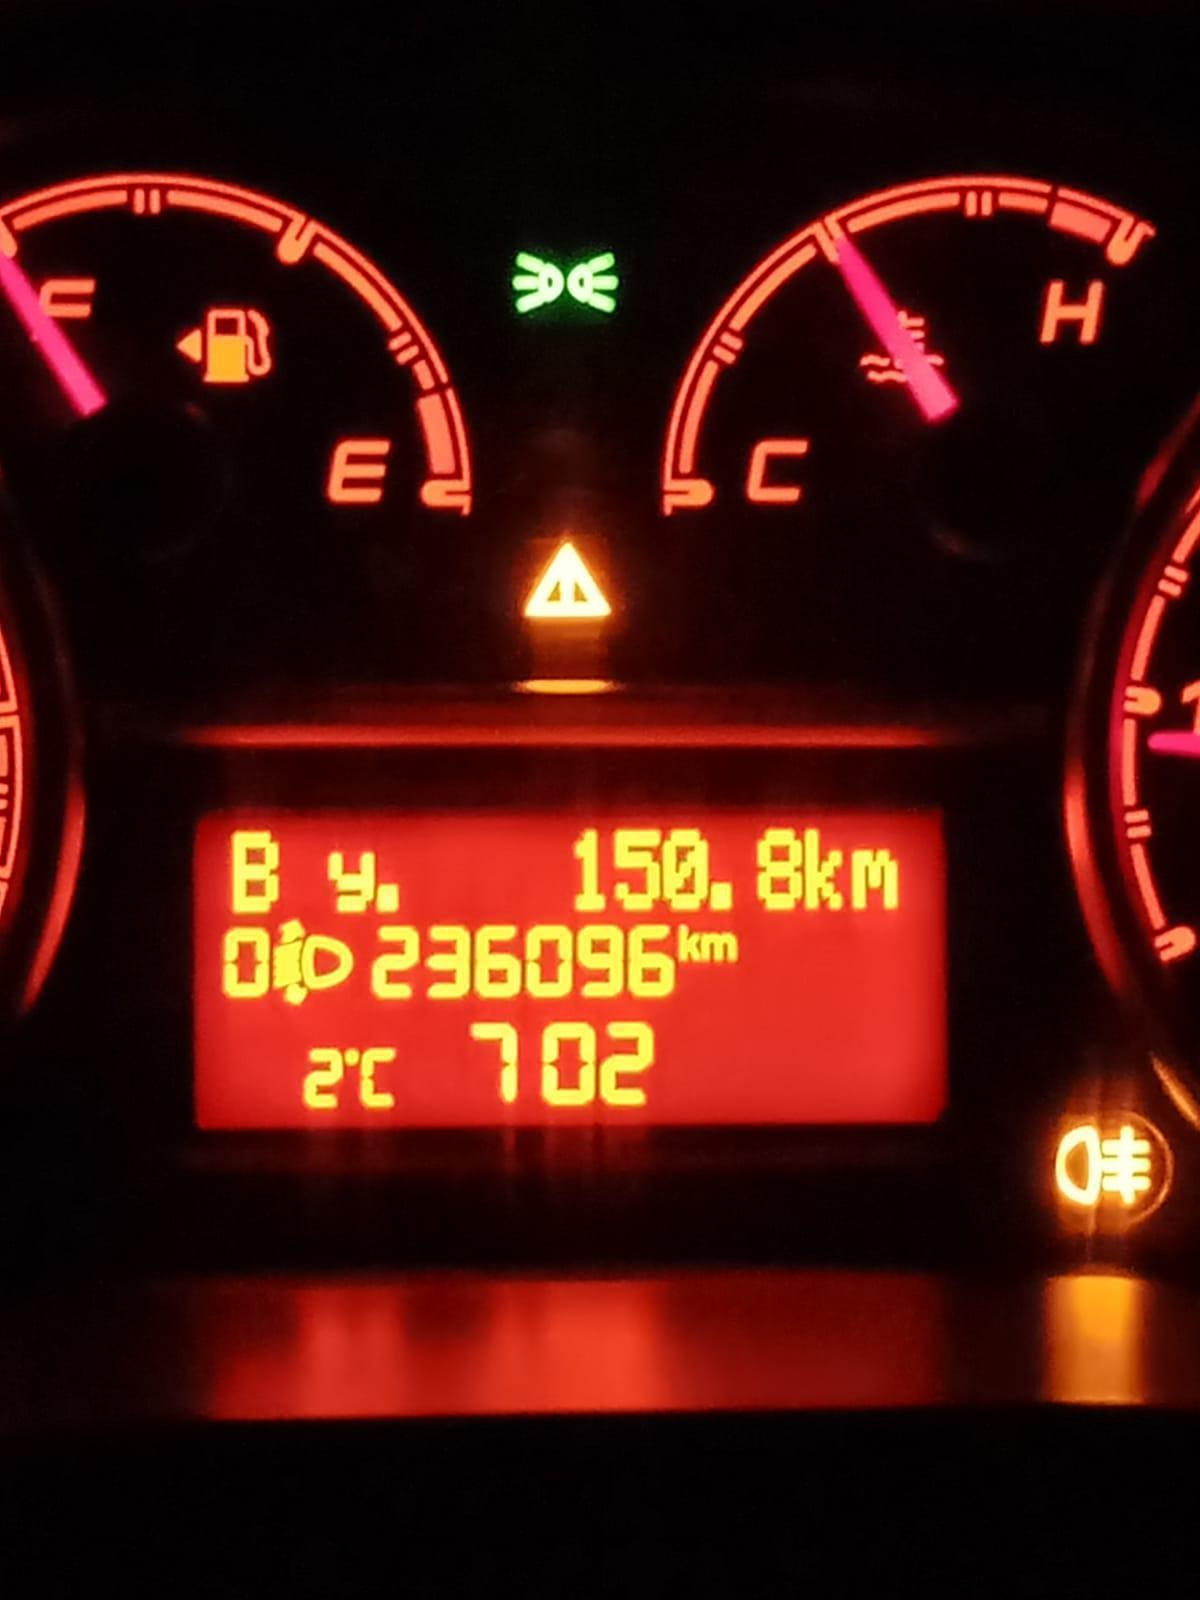,: (707, 879, 735, 911), (376, 882, 401, 913)
0: (539, 1020, 597, 1107), (661, 826, 708, 912), (523, 923, 575, 1000), (221, 926, 272, 999)
1: (570, 826, 608, 913)
2: (599, 1018, 655, 1107), (369, 923, 424, 1000), (301, 1044, 345, 1109)
3: (424, 923, 471, 1002)
5: (609, 826, 661, 913)
6: (471, 923, 523, 1000), (626, 922, 677, 1000)
7: (465, 1020, 521, 1105)
8: (753, 824, 804, 913)
9: (576, 921, 625, 1002)
X: (229, 826, 282, 912), (803, 826, 845, 911), (850, 847, 904, 911), (325, 848, 377, 913), (357, 1044, 400, 1110), (702, 931, 741, 964), (676, 923, 701, 964)
odometer: (185, 796, 961, 1138)
